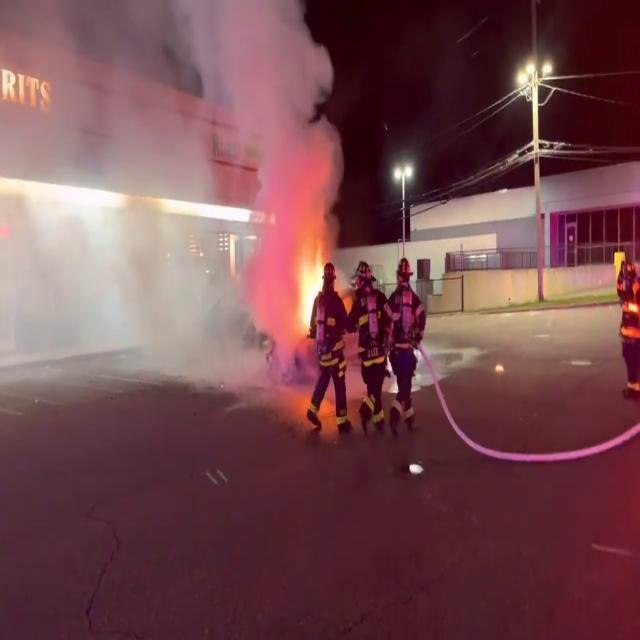Fire: (286, 234, 330, 338)
Smoke: (0, 0, 349, 412)
